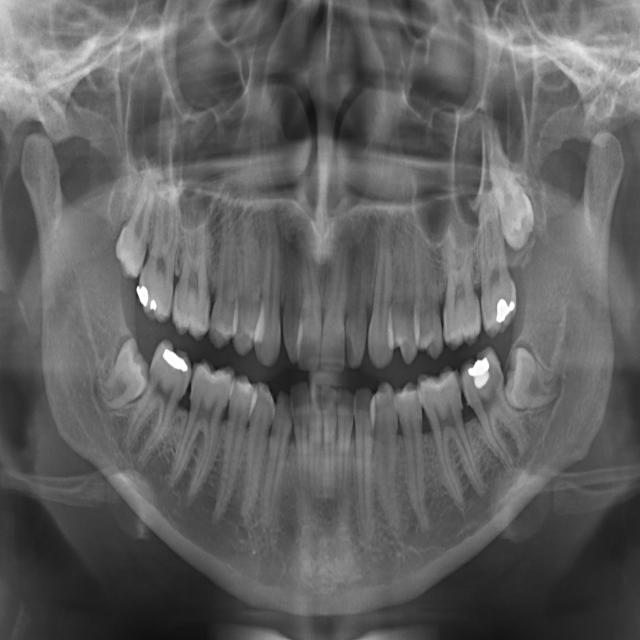AmalgamRestoration: (465, 356, 495, 389), (162, 345, 190, 378), (491, 298, 518, 327), (134, 282, 149, 306), (149, 295, 161, 315)
DentalCaries: (452, 387, 464, 418)
ImpactedTooth: (481, 128, 538, 250), (504, 332, 560, 415), (107, 335, 147, 415)
